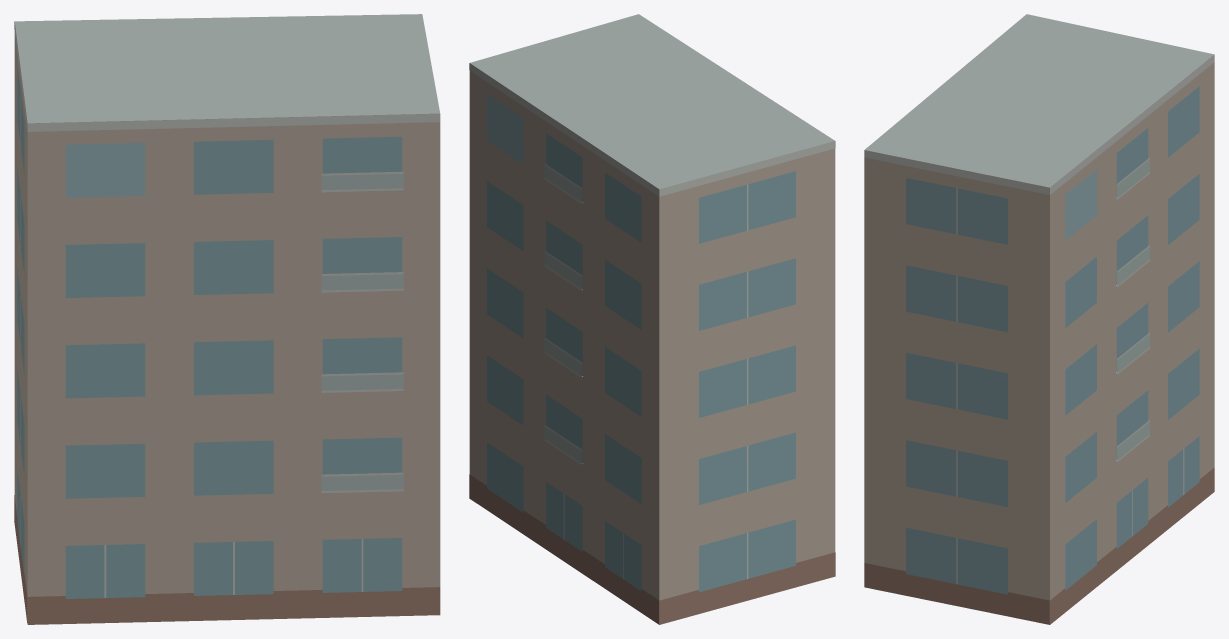
Rendered from survey-upis-32733919.glb.
3 renders of one model, left to right at view 1: azimuth 30°, elevation 25°; view 2: azimuth 150°, elevation 25°; view 3: azimuth 270°, elevation 25°, orthographic. The views are drawn at different scales.
Parts seen in each view (by area): view 1: survey-upis-32733919.tmp; view 2: survey-upis-32733919.tmp; view 3: survey-upis-32733919.tmp.
Boxes of the visible parts, x1,y1,x2,y2 form: survey-upis-32733919.tmp: (14, 14, 440, 624); survey-upis-32733919.tmp: (469, 14, 835, 624); survey-upis-32733919.tmp: (864, 14, 1214, 624).
Size of the model in its own units: 12.18 by 14.3 by 10.39.
